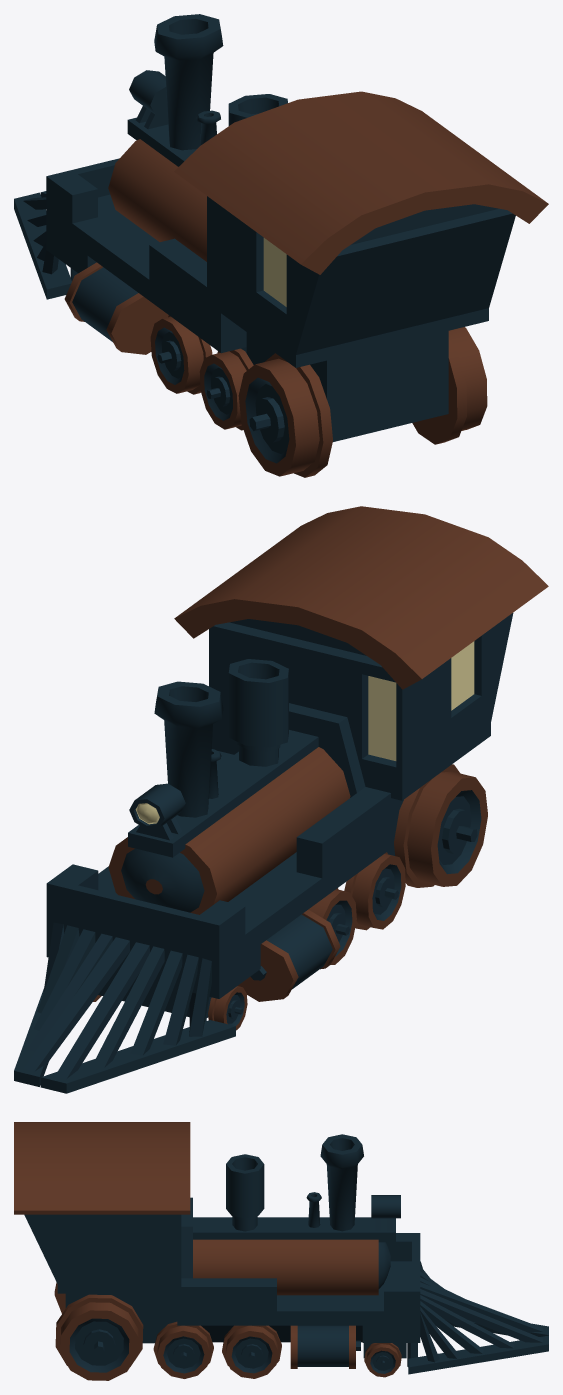
Rendered from trem_base.fbx.
The picture shows the model from 3 angles, top to bottom: view 1: azimuth 30°, elevation 25°; view 2: azimuth 150°, elevation 25°; view 3: azimuth 270°, elevation 25°; orthographic projection. The views are drawn at different scales.
Visible parts, largest first — view 1: trem_base; view 2: trem_base; view 3: trem_base.
Part boxes in pixels (x1=…): trem_base: x1=14, y1=14, x2=548, y2=477; trem_base: x1=14, y1=506, x2=548, y2=1093; trem_base: x1=14, y1=1122, x2=548, y2=1380.
Size of the model in its own units: 376 by 445 by 1008.
